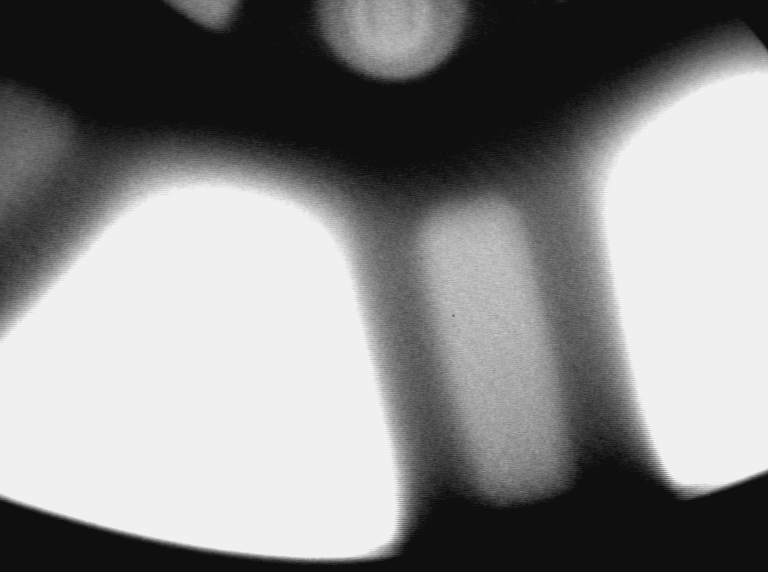defect: (481, 439, 515, 479)
